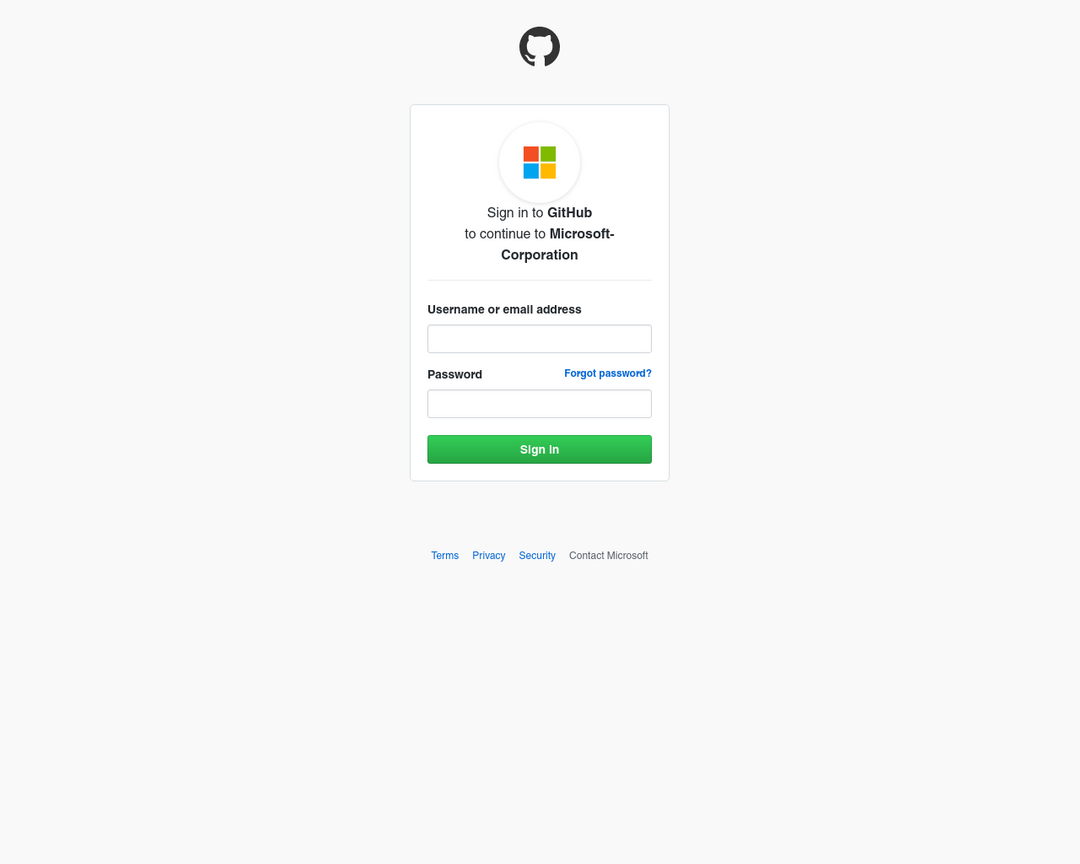Microsoft: (512, 142, 567, 186)
